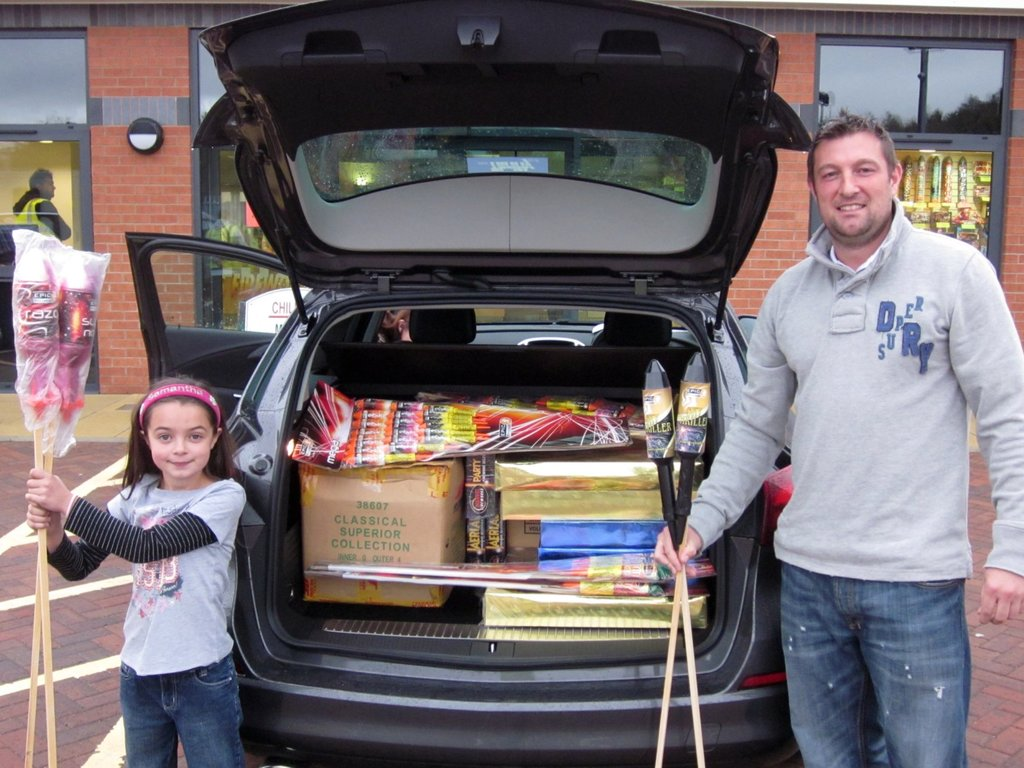cars: (107, 36, 768, 733)
